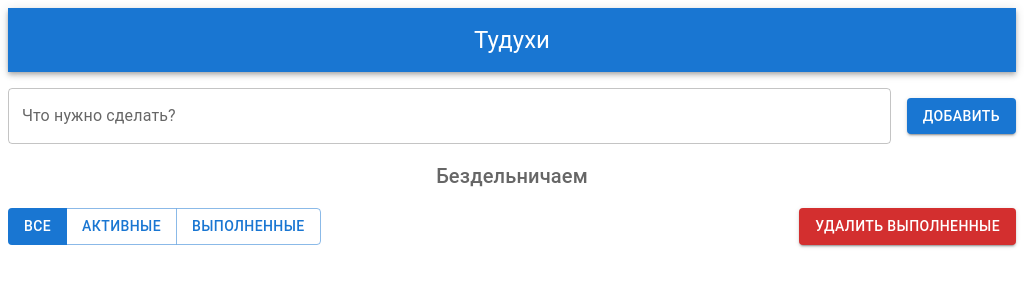
Scenario: Проверяем работоспособность списка задач › Добавление новой задачи
This screenshot has width=1024, height=307.
expect the heading "Бездельничаем" is shown: met, box [436,164,588,188]
# Шаг 3: Вводим задачу в поле и нажимаем кнопку "Добавить"
Type "Новая задача" into the element with test id "task-input" at (450, 116), box [8,88,891,144]
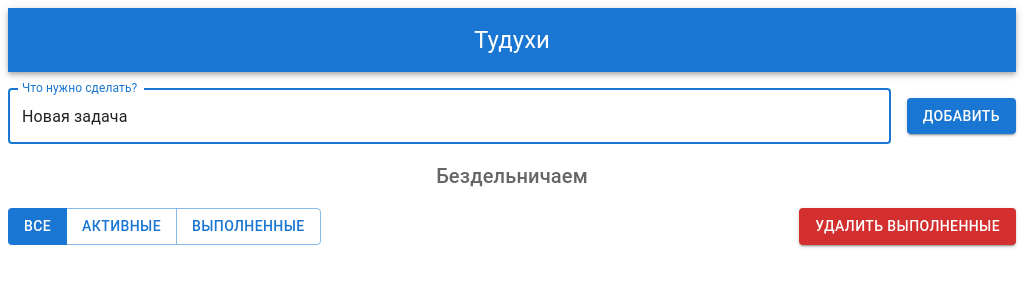
Click the button with test id "add-button" at (962, 117), box [907,98,1016,135]
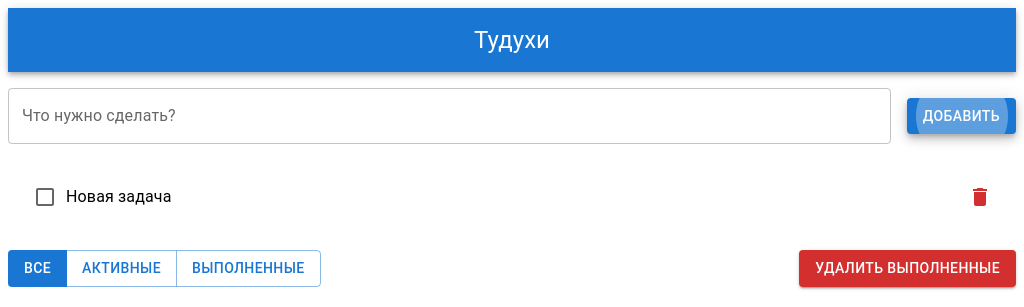
expect the list with test id "task-list" is shown: met, box [33,177,1000,217]
expect the text with test id "task-list" reads "Новая задача": met, box [66,187,172,206]
